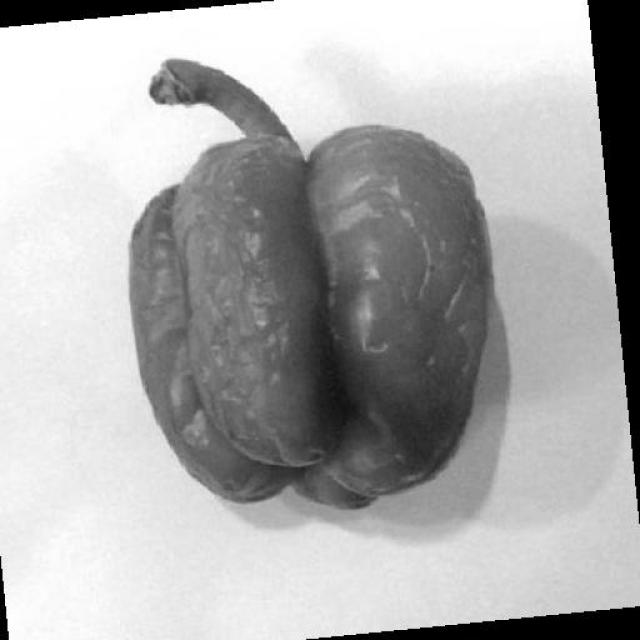Stale_Capsicum: (135, 87, 498, 498)
